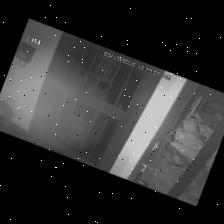person: (161, 119, 204, 169)
